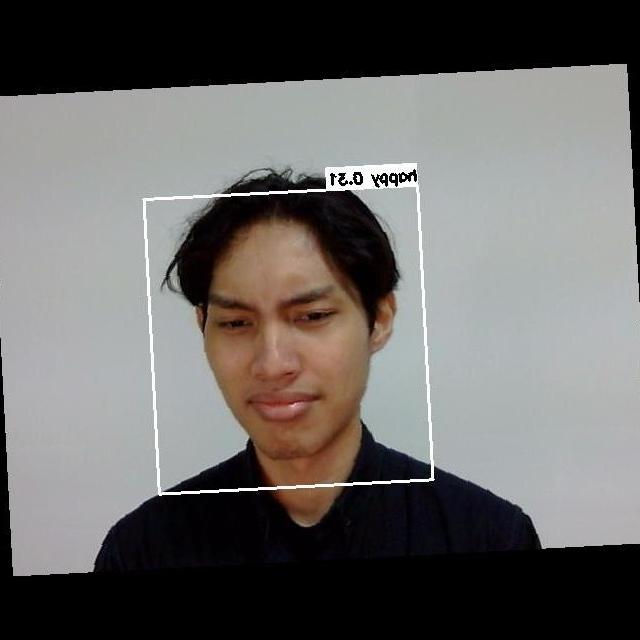Disgust: (186, 263, 379, 438)
